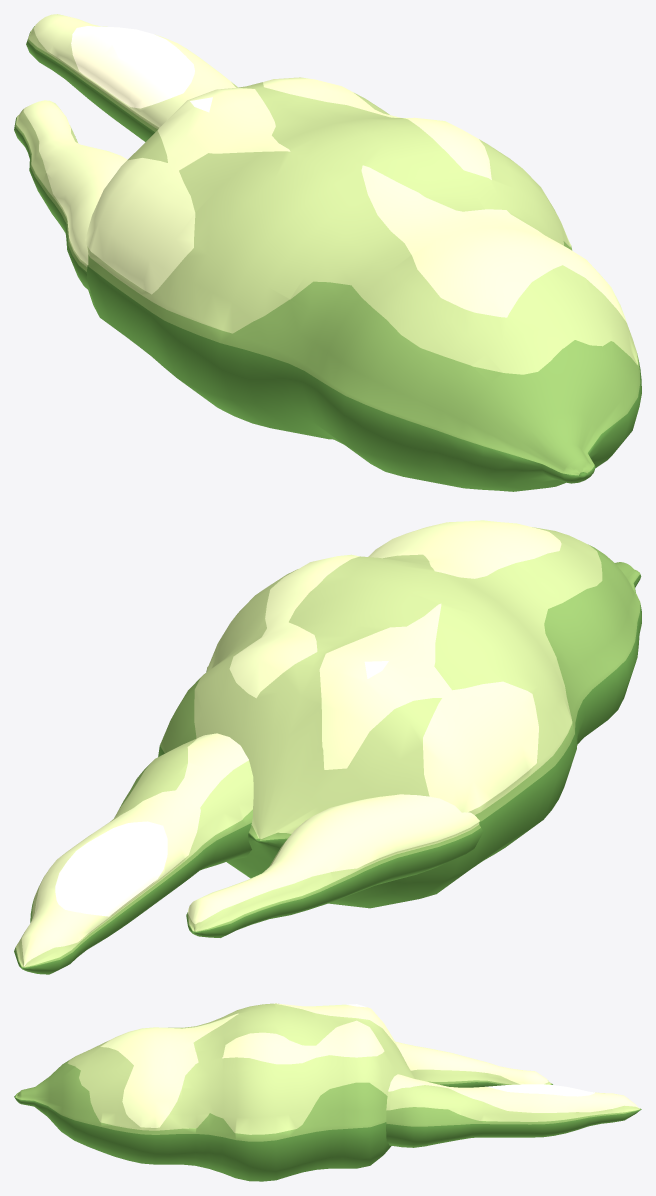
The model's file is fruit_flame_245.glb.
3 renders of one model, top to bottom at view 1: azimuth 30°, elevation 25°; view 2: azimuth 150°, elevation 25°; view 3: azimuth 270°, elevation 25°, orthographic. The views are drawn at different scales.
Visible parts, largest first — view 1: fruit_flame_245; view 2: fruit_flame_245; view 3: fruit_flame_245.
Boxes of the visible parts, left/top/right/bottom form: fruit_flame_245: left=14, top=14, right=641, bottom=491; fruit_flame_245: left=14, top=520, right=641, bottom=974; fruit_flame_245: left=14, top=1003, right=641, bottom=1181.
Bounding box in the file's own units: 7.82 × 5.6 × 21.27.
